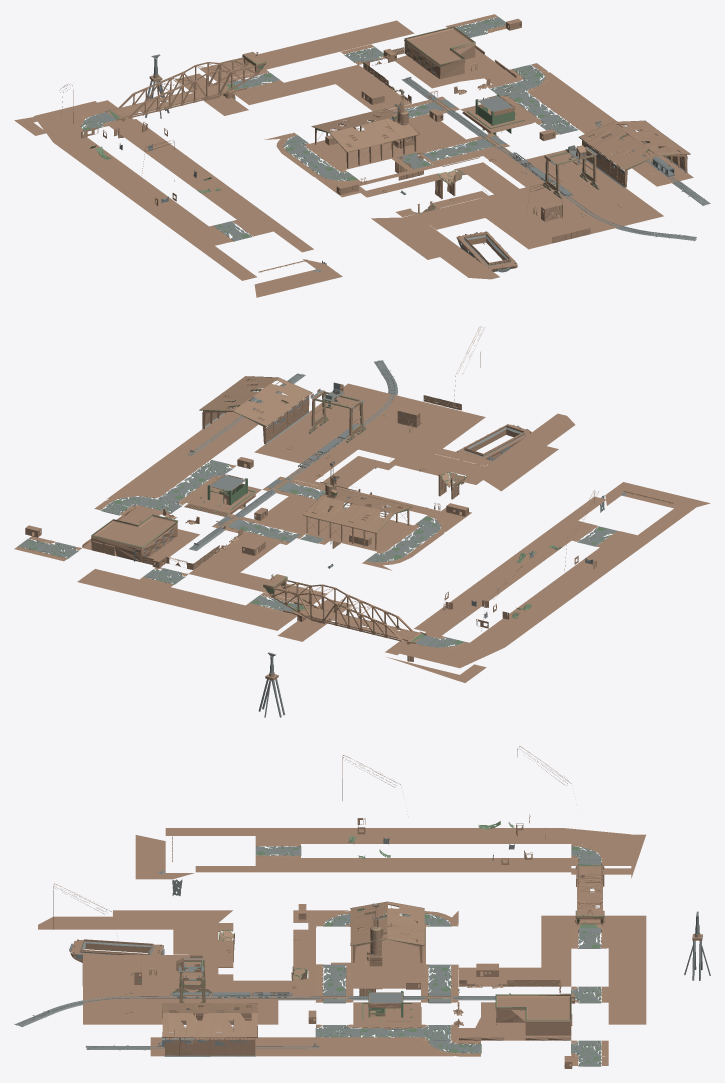
Rendered from harbor_2-mid.glb.
The picture shows the model from 3 angles, top to bottom: view 1: azimuth 30°, elevation 25°; view 2: azimuth 150°, elevation 25°; view 3: azimuth 270°, elevation 25°; orthographic projection. The views are drawn at different scales.
Visible parts, largest first — view 1: swing_bridge_LOD0, fishing_net_floor_b; view 2: swing_bridge_LOD0, fishing_net_floor_b; view 3: swing_bridge_LOD0, fishing_net_floor_b.
Part boxes in pixels (<box>): swing_bridge_LOD0: <box>14,14,693,297</box>; fishing_net_floor_b: <box>81,17,710,272</box>; swing_bridge_LOD0: <box>14,326,710,682</box>; fishing_net_floor_b: <box>18,360,626,717</box>; swing_bridge_LOD0: <box>38,746,702,1068</box>; fishing_net_floor_b: <box>14,821,710,1066</box>.
Bounding box in the file's own units: 231 × 62.23 × 278.
